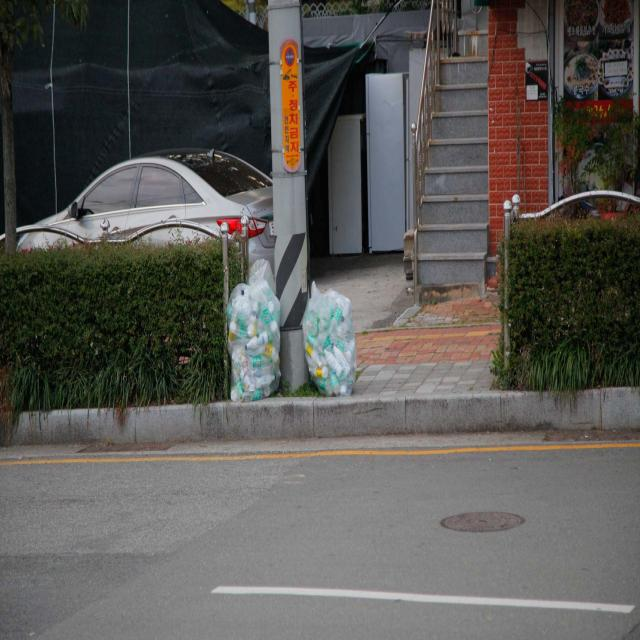garbage bag: (230, 256, 284, 401), (303, 274, 357, 401)
